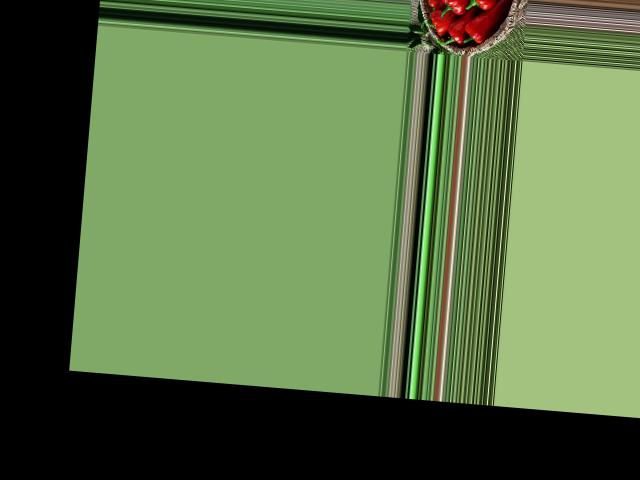bell_pepper: (442, 17, 469, 49)
